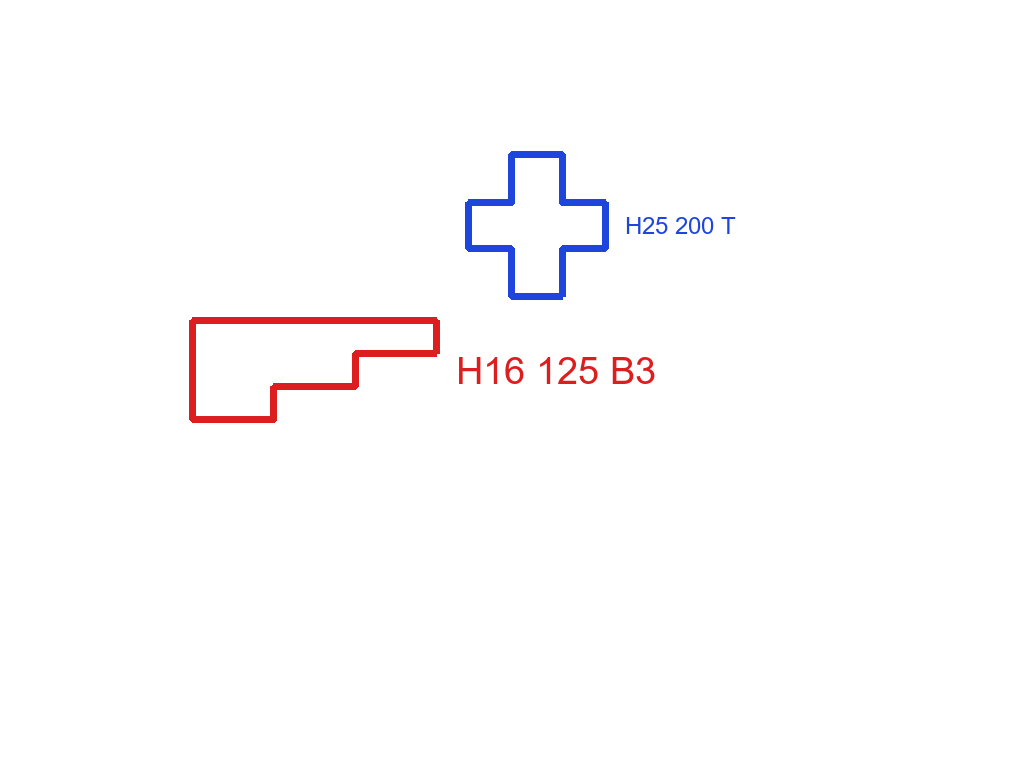shape: (187, 315, 442, 425), (463, 149, 611, 302)
text: (454, 355, 658, 386), (623, 215, 738, 236)
